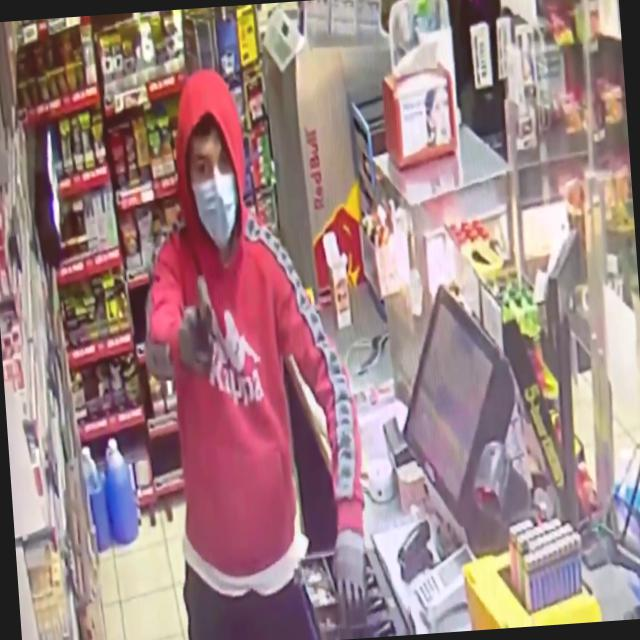handgun: (179, 250, 223, 362)
